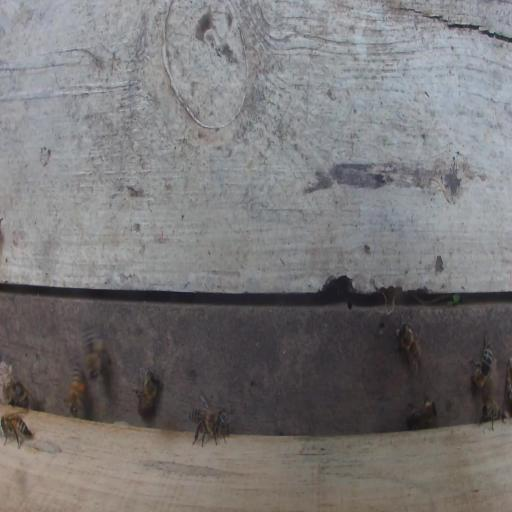nonpollenbee: (190, 407, 231, 447), (394, 321, 423, 375), (132, 366, 161, 419), (468, 334, 492, 390), (1, 411, 33, 449), (480, 391, 506, 431), (407, 397, 437, 430), (11, 380, 29, 408)
pollenbee: (80, 320, 106, 380), (67, 359, 88, 419)
